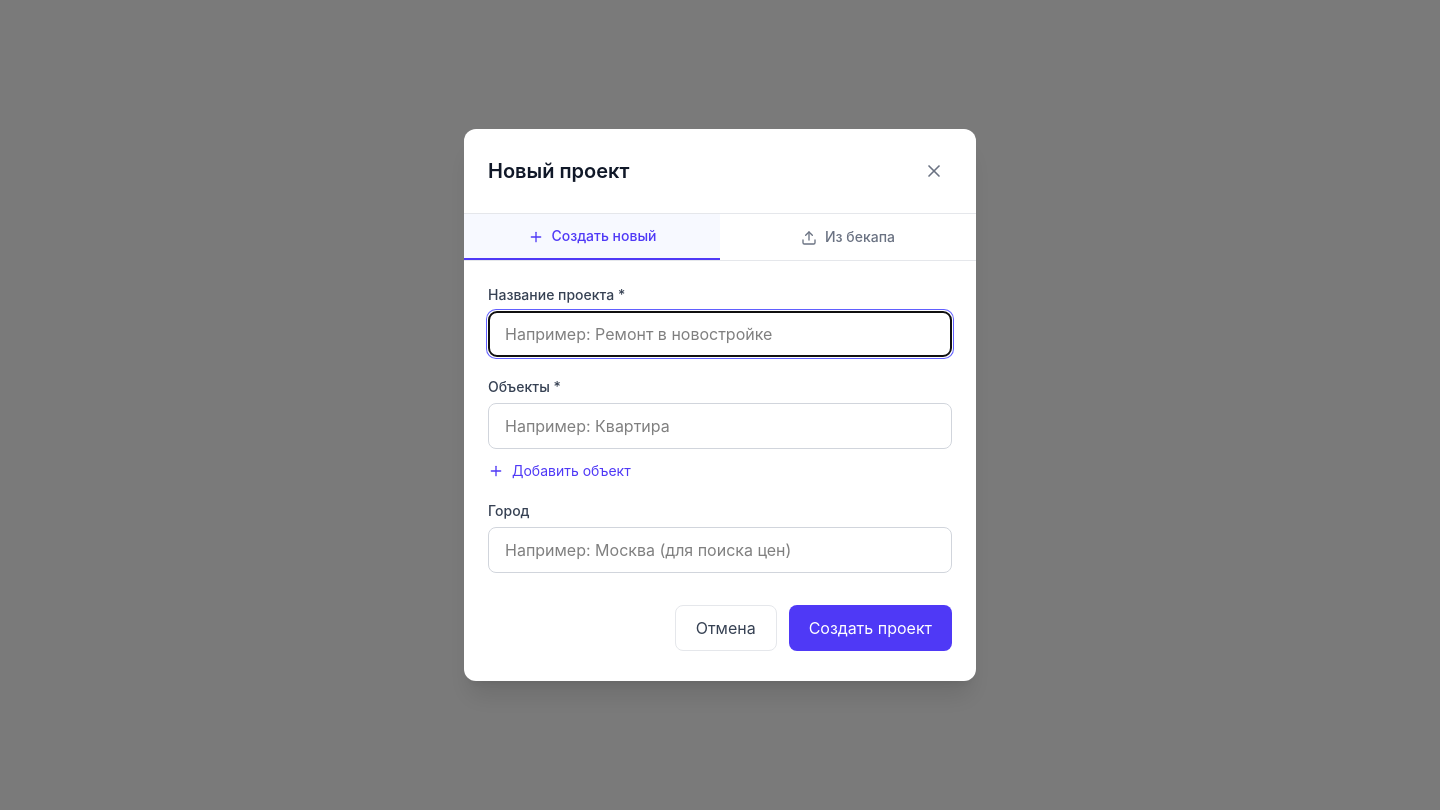
Test: CreateProjectModal › create new project tab › should show error when submitting without project name
Don't fill in project name, just fill object
In the field with placeholder "Например: Квартира": [720, 426] box [488,403,952,449], type "Квартира"
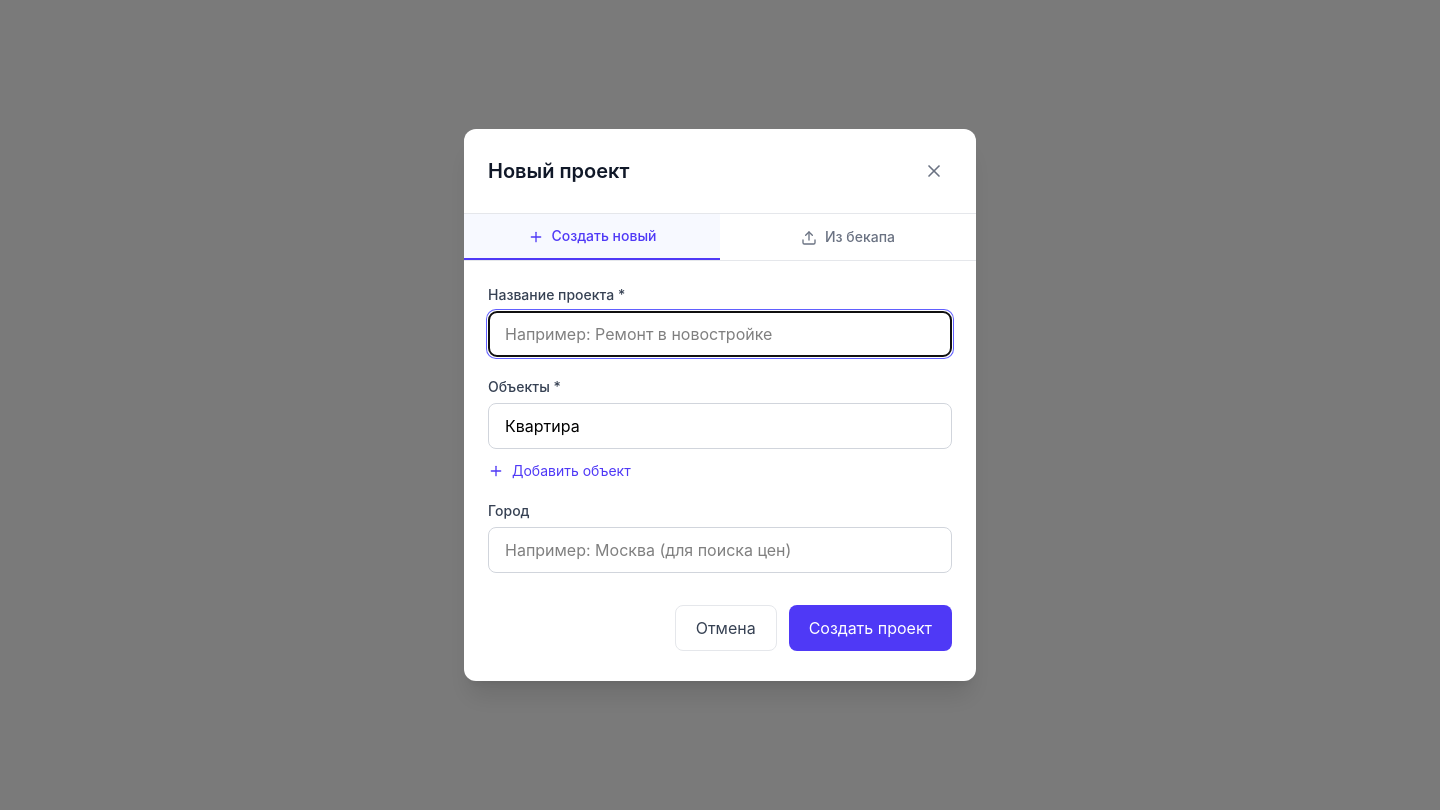
Click the button "Создать проект": [870, 628] box [789,605,952,651]
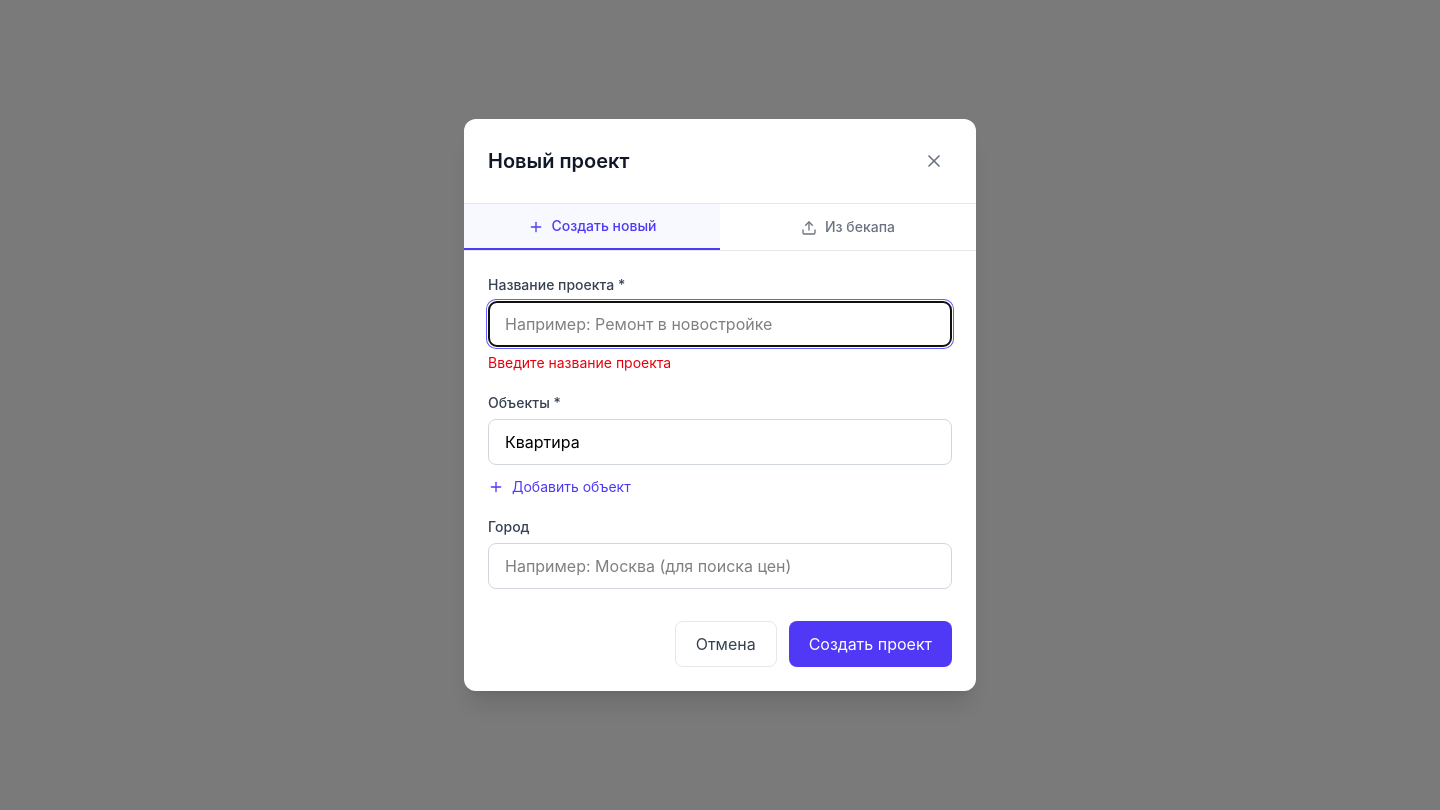
Now the text "Введите название проекта" is shown, box [488,354,671,371]
